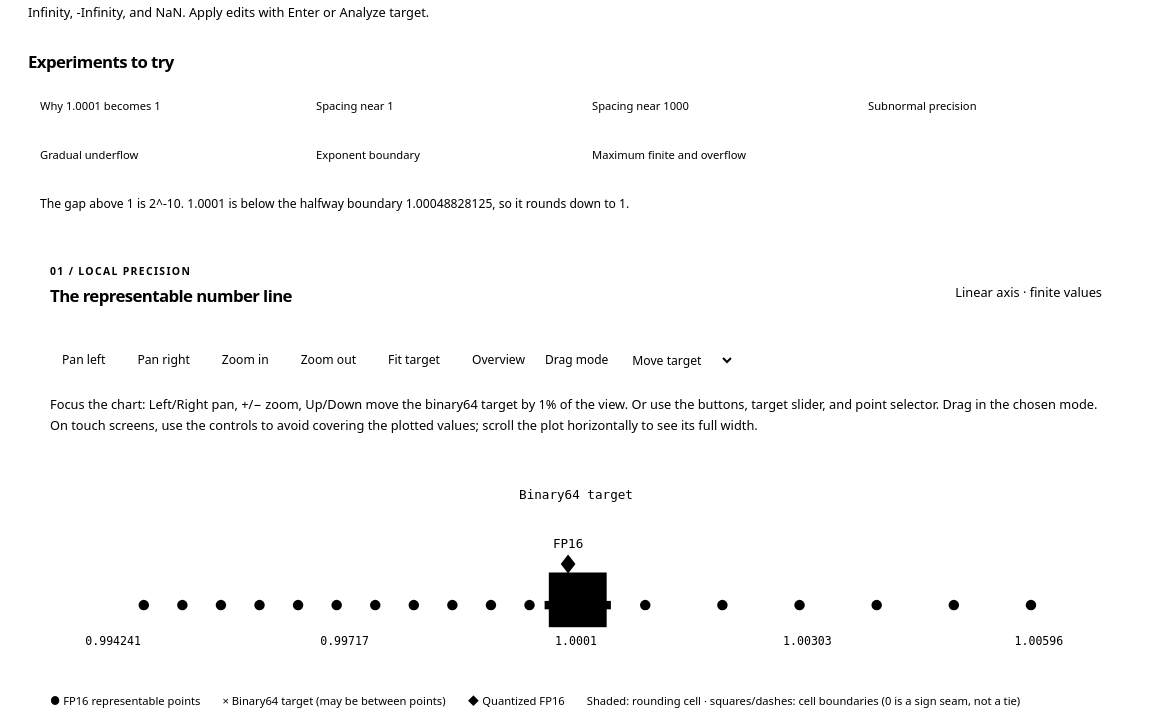
it: Precision Microscope integration › discloses sampling and bounds the number of rendered points in an overview
(page scrolled)
What coordinates should you click on to do the following:
click the button "Overview"
I would click on:
 (498, 360)
Its box is x1=460 y1=338 x2=537 y2=382.
(page scrolled)
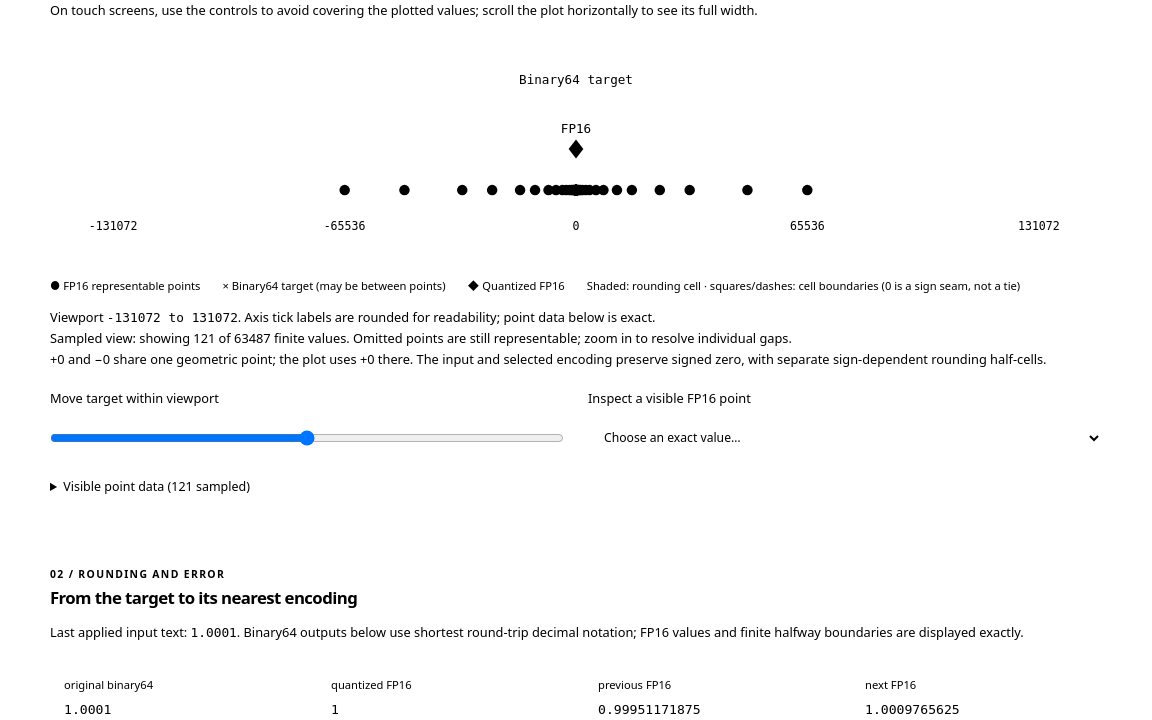
Result: the message named "Viewport sampling" shows "showing 121 of 63487" at x1=50 y1=329 x2=792 y2=347
Result: the text "share one geometric point" is shown at x1=50 y1=350 x2=1046 y2=368
